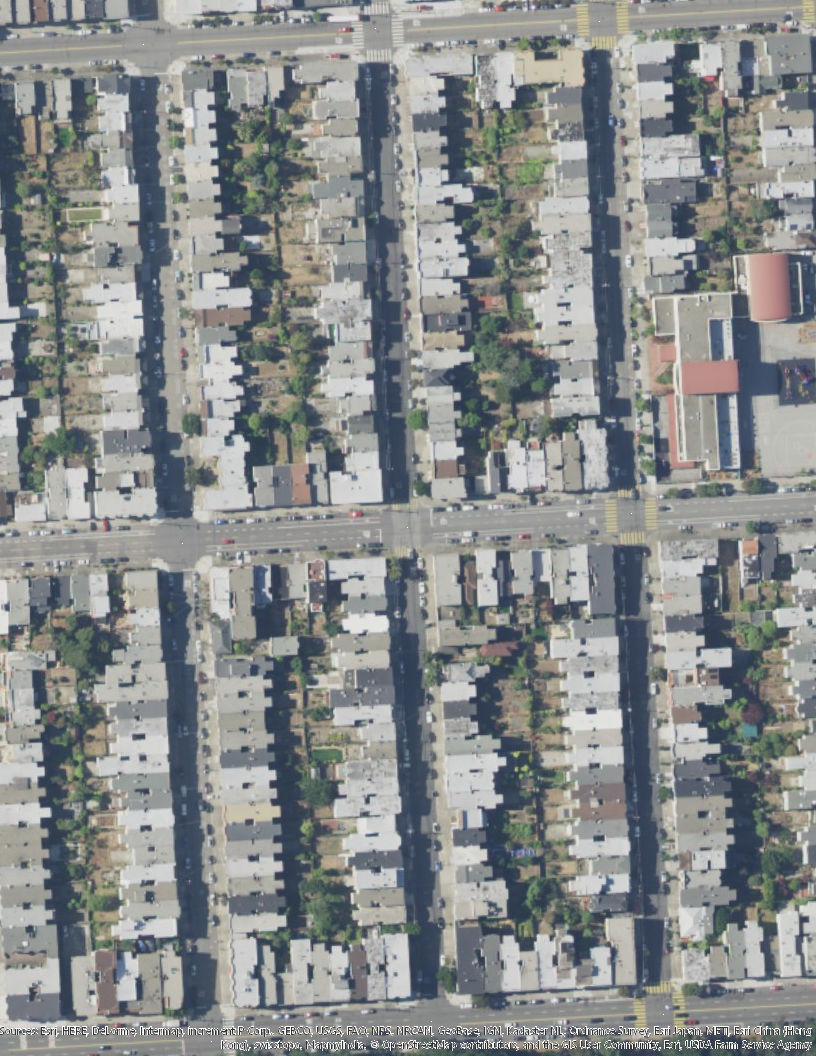zebracross: (575, 4, 591, 36), (615, 1, 630, 34), (616, 530, 646, 546), (674, 994, 686, 1030), (588, 36, 618, 50), (635, 998, 647, 1033), (605, 500, 618, 532), (362, 1, 389, 16), (645, 498, 658, 529), (391, 18, 405, 46), (366, 47, 392, 62), (617, 485, 643, 499), (645, 981, 673, 994), (352, 22, 365, 48), (393, 501, 419, 510)
